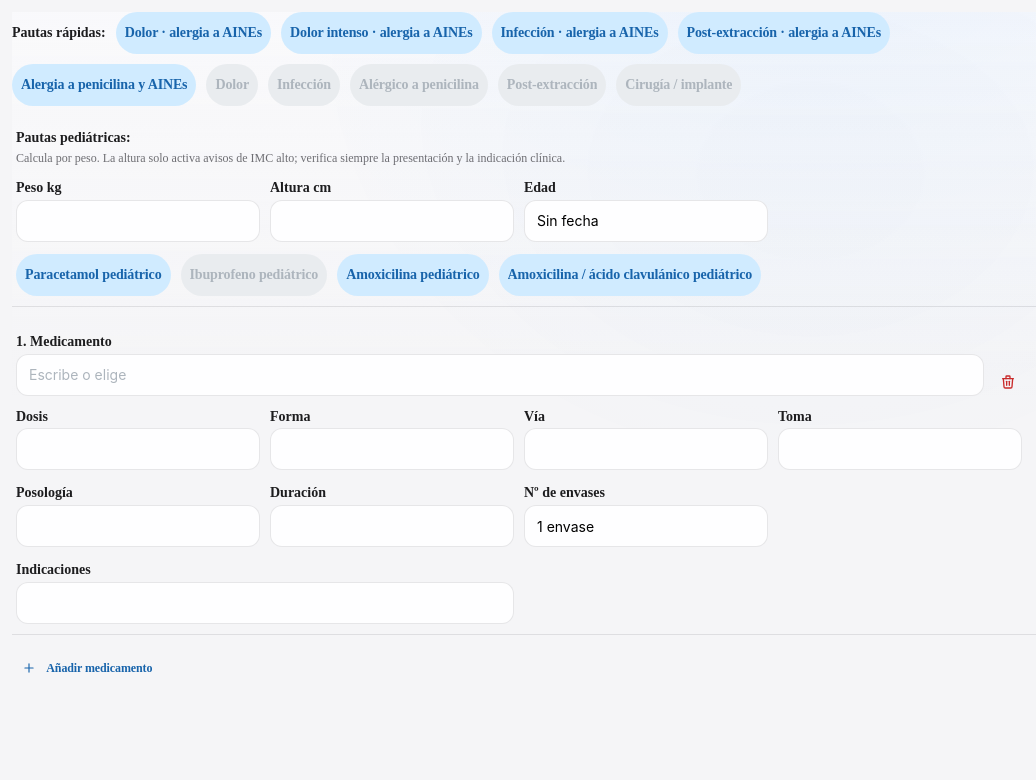
Test case: explains why a manually typed NSAID is blocked
This screenshot has width=1036, height=780.
Type "Naproxeno" into the dropdown labelled "1. Medicamento" at (500, 375), box top-left (16, 354), bottom-right (984, 396)
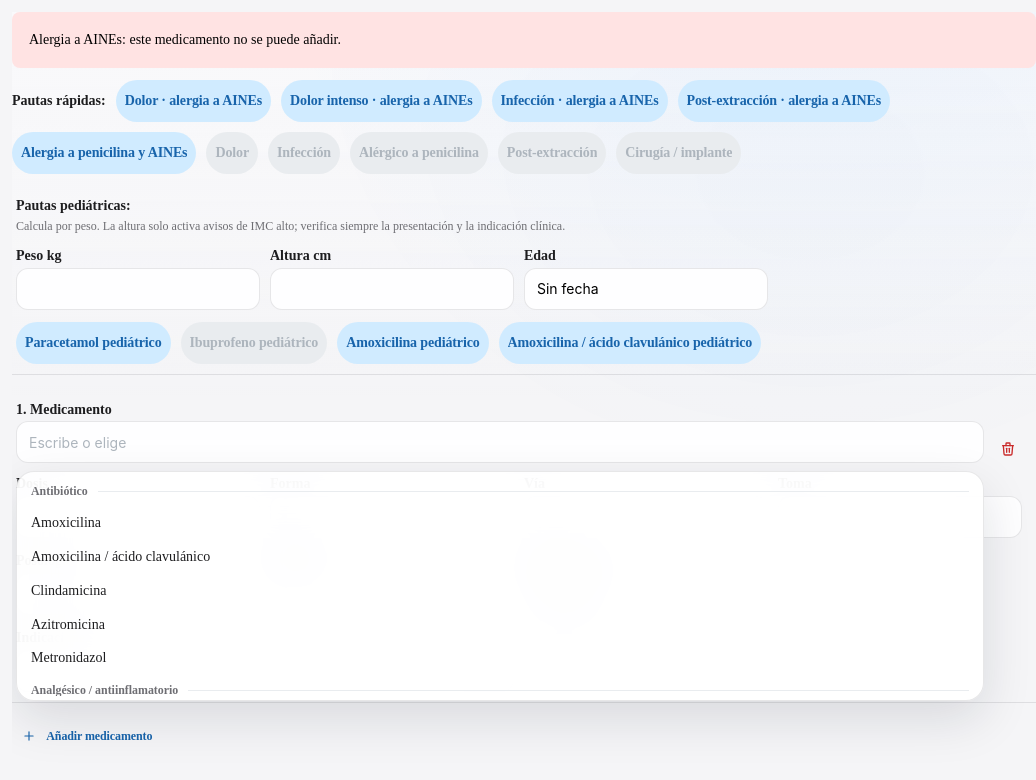
Expected: the message reads "Alergia a AINEs: este medicamento no se puede añadir.", top-left (29, 32), bottom-right (341, 47)
